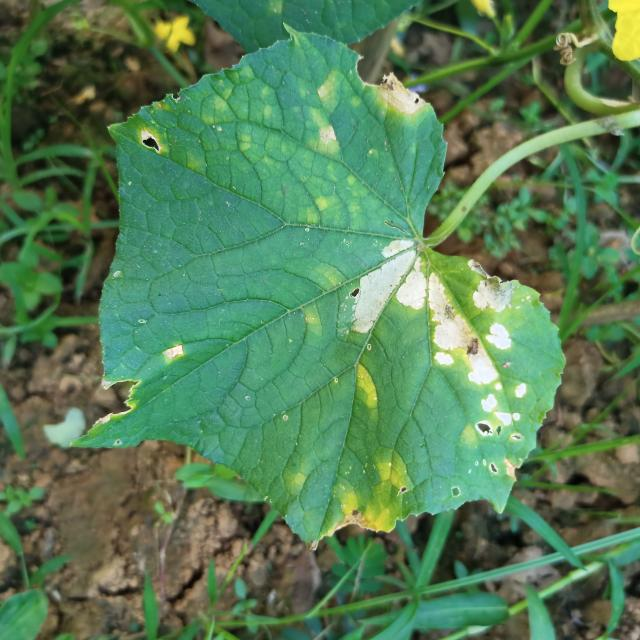disease_cucumber: (348, 233, 536, 442), (331, 443, 412, 539), (298, 71, 350, 154), (346, 360, 390, 419)
